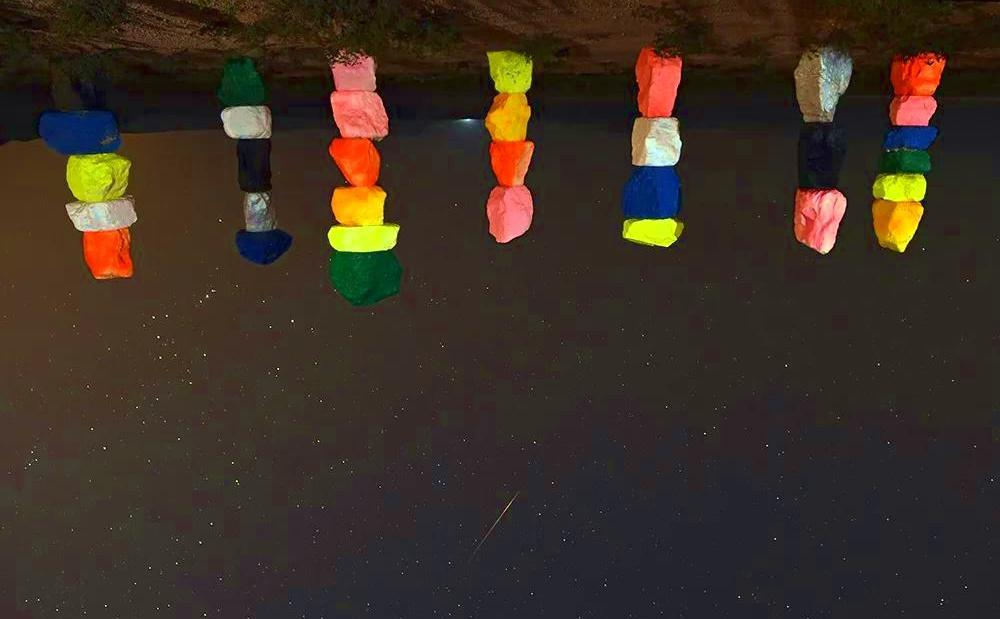meteorite: (448, 489, 533, 564)
